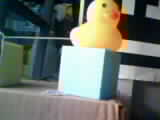duck: (67, 4, 123, 57)
